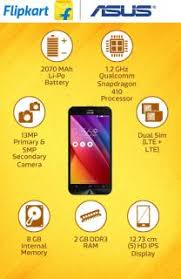asus: (64, 102, 113, 197)
